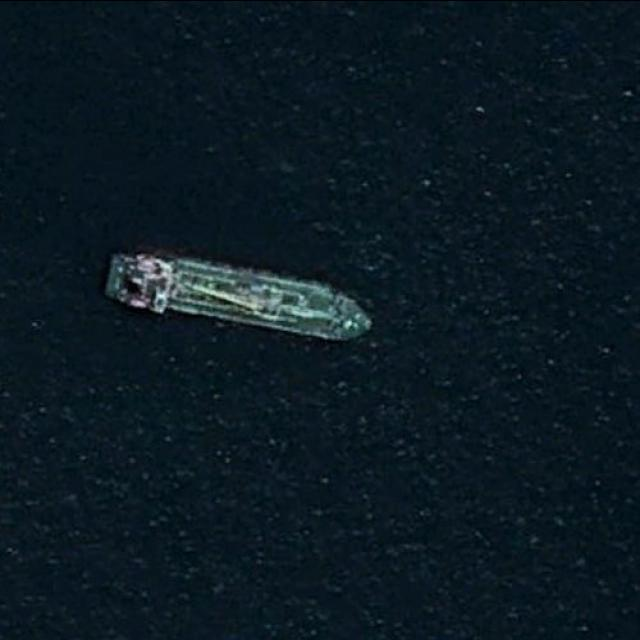ship: (101, 250, 376, 344)
